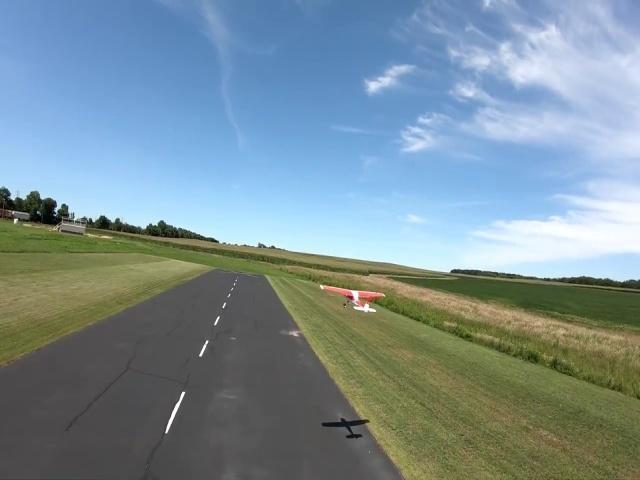Airplane: (319, 284, 386, 312)
